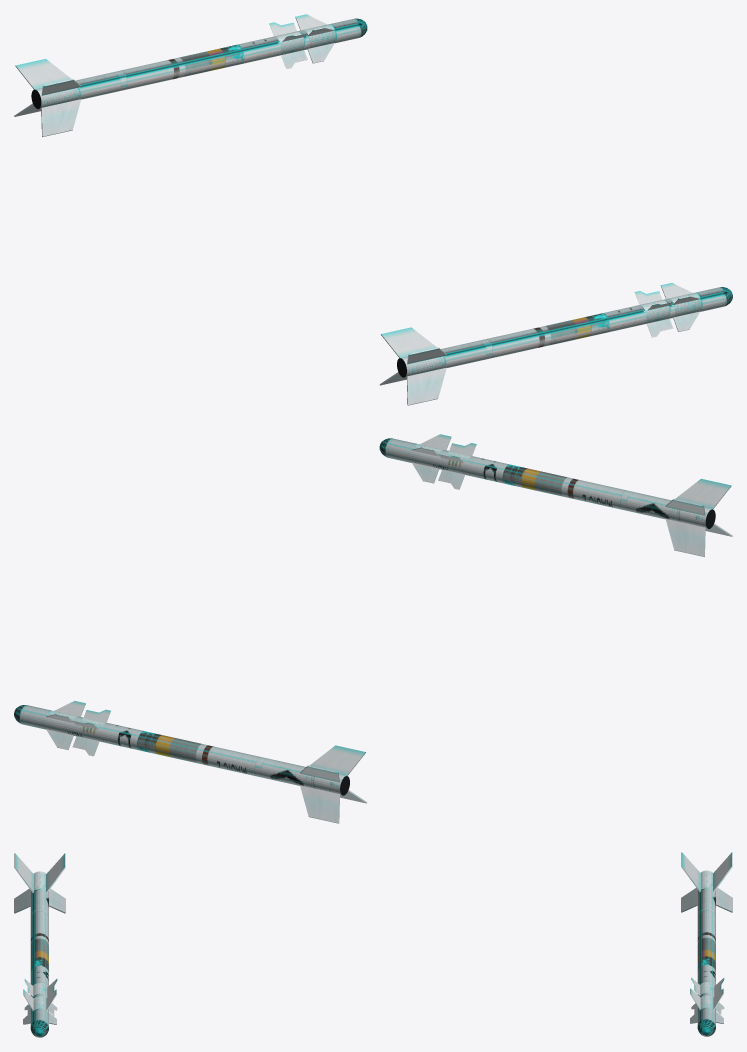
The model's file is rafaler550381.glb.
3 renders of one model, top to bottom at view 1: azimuth 30°, elevation 25°; view 2: azimuth 150°, elevation 25°; view 3: azimuth 270°, elevation 25°, orthographic. The views are drawn at different scales.
Parts seen in each view (by area): view 1: 立方体.014, 立方体.013; view 2: 立方体.013, 立方体.014; view 3: 立方体.013, 立方体.014.
Part boxes in pixels (<box>): 立方体.014: <box>14,14,367,136</box>; 立方体.013: <box>379,283,732,405</box>; 立方体.013: <box>379,434,732,556</box>; 立方体.014: <box>14,701,367,823</box>; 立方体.013: <box>14,853,65,1037</box>; 立方体.014: <box>681,852,732,1036</box>.
Size of the model in its own units: 3.19 by 0.4777 by 6.42.
Materials: 2 (2 with a texture image).
